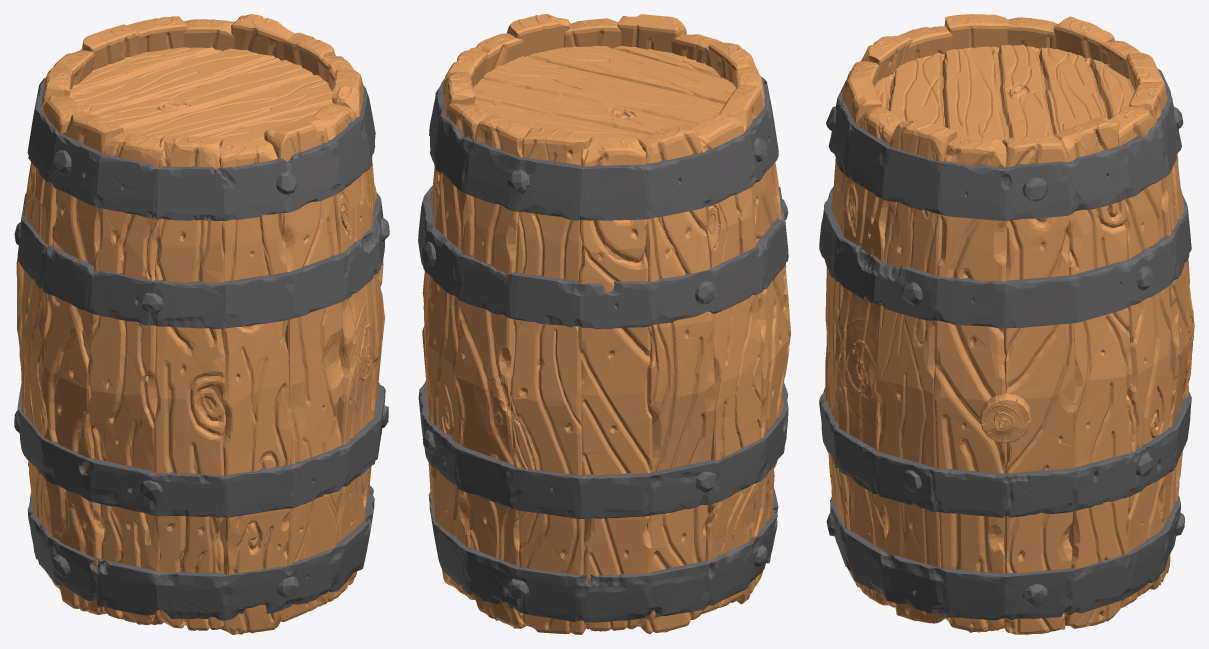
File: Barrel_origin.fbx
3 renders of one model, left to right at view 1: azimuth 30°, elevation 25°; view 2: azimuth 150°, elevation 25°; view 3: azimuth 270°, elevation 25°, orthographic.
Parts seen in each view (by area): view 1: Barrel; view 2: Barrel; view 3: Barrel.
Boxes of the visible parts, x1,y1,x2,y2 form: Barrel: [14, 14, 389, 634]; Barrel: [418, 14, 790, 634]; Barrel: [819, 14, 1194, 634].
Size of the model in its own units: 2.33 by 3.34 by 2.28.
